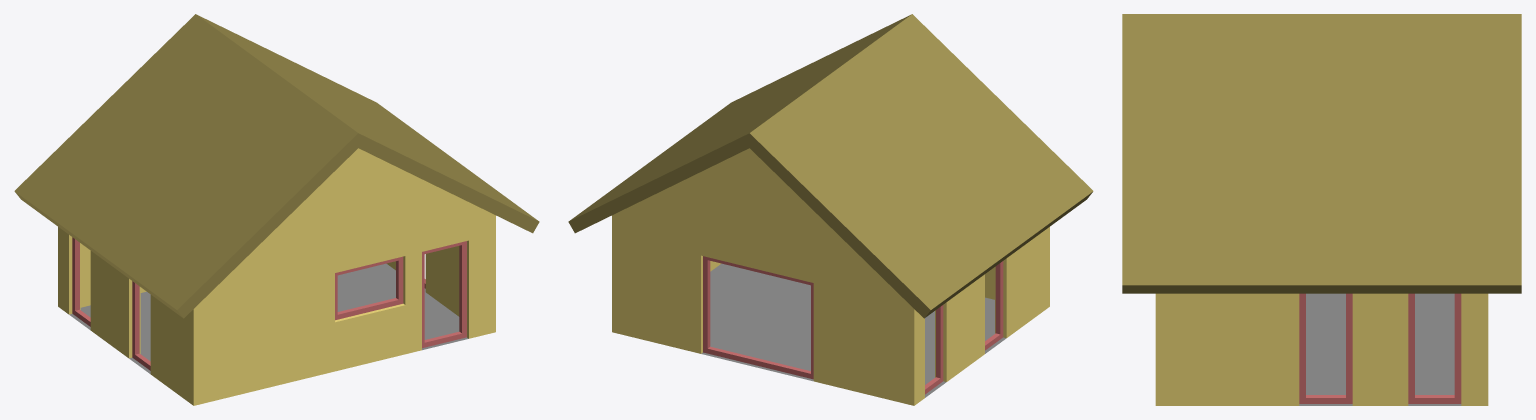
Rendered from result.glb.
3 views of the same model, side by side, from view 1: azimuth 30°, elevation 25°; view 2: azimuth 150°, elevation 25°; view 3: azimuth 270°, elevation 25° (orthographic). The views are drawn at different scales.
Visible parts, largest first — view 1: 8e3d44e3-a316-4c26-988c-f0845d1e54f2__undefined (×2), 82a301f8-c4e3-4a94-a831-59d2a20ea92c__undefined, 5697c781-a162-47c7-acb5-c149307eb91a__Plane_8, 6d848f0f-1ad8-4925-bcbe-72ff68dd469d__Box, 8a114d03-79a2-43f2-afb6-7007161e5c63__Box_3, 20514e6d-e294-4fb2-bad9-23deb3b0d7ea__Box_12, bb83172c-1e7f-438e-9a0d-81d08b8a1e3a__Box_15; view 2: 8e3d44e3-a316-4c26-988c-f0845d1e54f2__undefined (×2), 82a301f8-c4e3-4a94-a831-59d2a20ea92c__undefined, 5697c781-a162-47c7-acb5-c149307eb91a__Plane_8, 9a3d10ca-4d9e-442f-ac6a-fbba7e15855c__Box_9, 20514e6d-e294-4fb2-bad9-23deb3b0d7ea__Box_12, bb83172c-1e7f-438e-9a0d-81d08b8a1e3a__Box_15; view 3: 8e3d44e3-a316-4c26-988c-f0845d1e54f2__undefined, 82a301f8-c4e3-4a94-a831-59d2a20ea92c__undefined, 5697c781-a162-47c7-acb5-c149307eb91a__Plane_8, 8c065059-6f4d-4baf-9248-fbf98f729cc9__Box_21, 483ef740-4784-4de3-aaaa-1bf9578e5064__Box_18.
Boxes of the visible parts, left/top/right/bottom form: 8e3d44e3-a316-4c26-988c-f0845d1e54f2__undefined (×2): left=14, top=14, right=539, bottom=318; 82a301f8-c4e3-4a94-a831-59d2a20ea92c__undefined: left=58, top=148, right=495, bottom=405; 5697c781-a162-47c7-acb5-c149307eb91a__Plane_8: left=69, top=263, right=468, bottom=373; 6d848f0f-1ad8-4925-bcbe-72ff68dd469d__Box: left=422, top=241, right=466, bottom=348; 8a114d03-79a2-43f2-afb6-7007161e5c63__Box_3: left=335, top=256, right=403, bottom=320; 20514e6d-e294-4fb2-bad9-23deb3b0d7ea__Box_12: left=132, top=281, right=150, bottom=370; bb83172c-1e7f-438e-9a0d-81d08b8a1e3a__Box_15: left=72, top=237, right=90, bottom=326; 8e3d44e3-a316-4c26-988c-f0845d1e54f2__undefined (×2): left=568, top=14, right=1093, bottom=318; 82a301f8-c4e3-4a94-a831-59d2a20ea92c__undefined: left=612, top=148, right=1049, bottom=405; 5697c781-a162-47c7-acb5-c149307eb91a__Plane_8: left=701, top=263, right=1005, bottom=397; 9a3d10ca-4d9e-442f-ac6a-fbba7e15855c__Box_9: left=703, top=256, right=813, bottom=379; 20514e6d-e294-4fb2-bad9-23deb3b0d7ea__Box_12: left=985, top=261, right=1003, bottom=350; bb83172c-1e7f-438e-9a0d-81d08b8a1e3a__Box_15: left=925, top=305, right=943, bottom=394; 8e3d44e3-a316-4c26-988c-f0845d1e54f2__undefined: left=1122, top=14, right=1521, bottom=293; 82a301f8-c4e3-4a94-a831-59d2a20ea92c__undefined: left=1155, top=293, right=1488, bottom=405; 5697c781-a162-47c7-acb5-c149307eb91a__Plane_8: left=1299, top=293, right=1461, bottom=405; 8c065059-6f4d-4baf-9248-fbf98f729cc9__Box_21: left=1408, top=293, right=1461, bottom=403; 483ef740-4784-4de3-aaaa-1bf9578e5064__Box_18: left=1299, top=293, right=1352, bottom=403.
Bounding box in the file's own units: 772 × 500 × 600.
